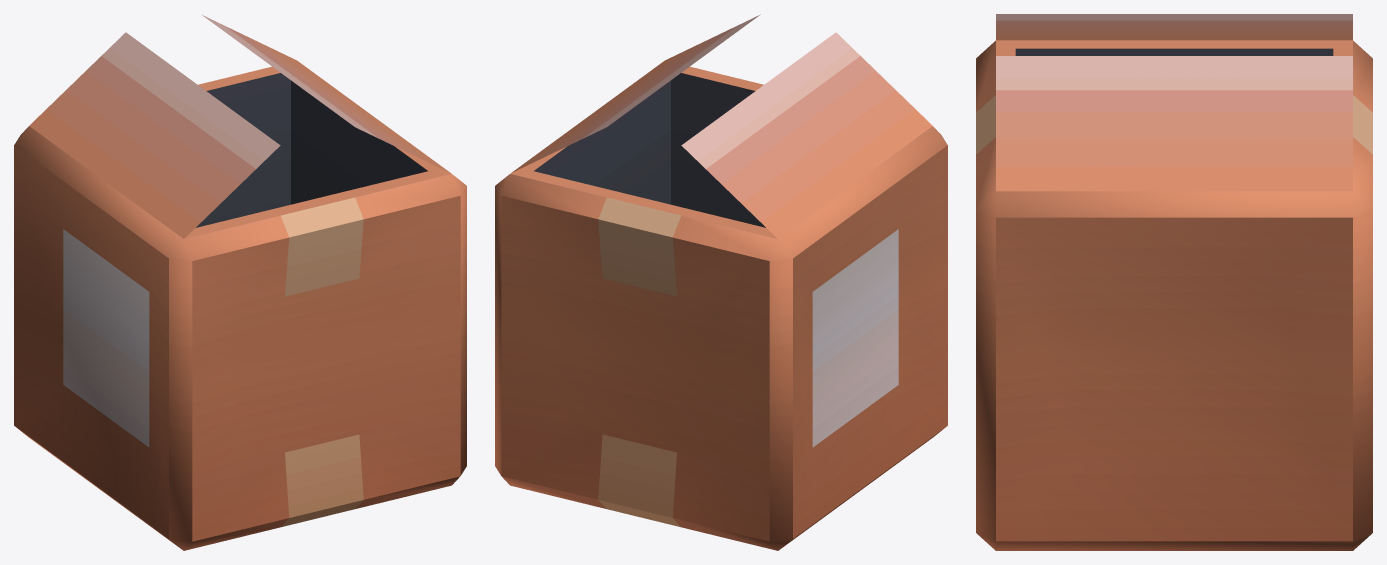
The model's file is box-open.glb.
3 renders of one model, left to right at view 1: azimuth 30°, elevation 25°; view 2: azimuth 150°, elevation 25°; view 3: azimuth 270°, elevation 25°, orthographic. The views are drawn at different scales.
Visible parts, largest first — view 1: box-open; view 2: box-open; view 3: box-open.
Boxes of the visible parts, x1=… form: box-open: x1=14, y1=14, x2=466, y2=550; box-open: x1=495, y1=14, x2=947, y2=550; box-open: x1=976, y1=14, x2=1372, y2=550.
Bounding box in the file's own units: 0.25 × 0.3063 × 0.25.
1 material, 1 textured.
